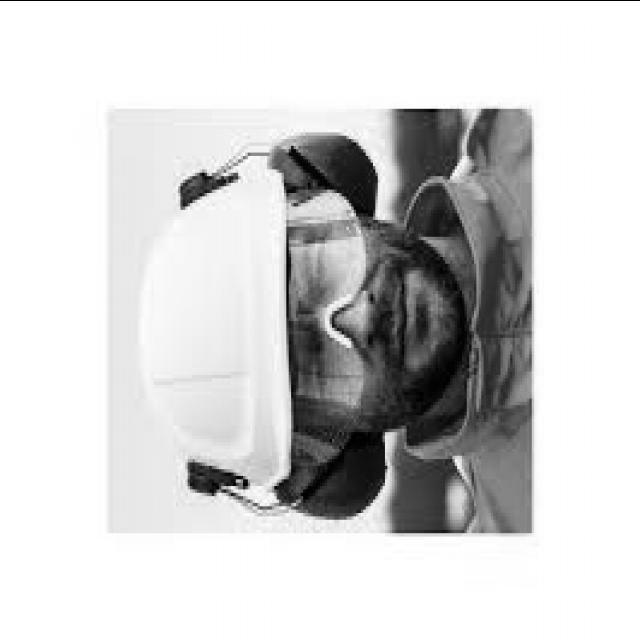construction helmet: (142, 145, 296, 502)
